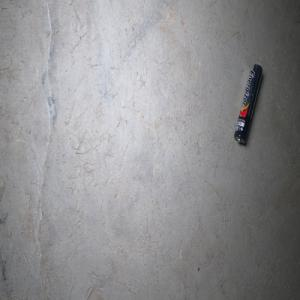Battery: (233, 63, 262, 144)
